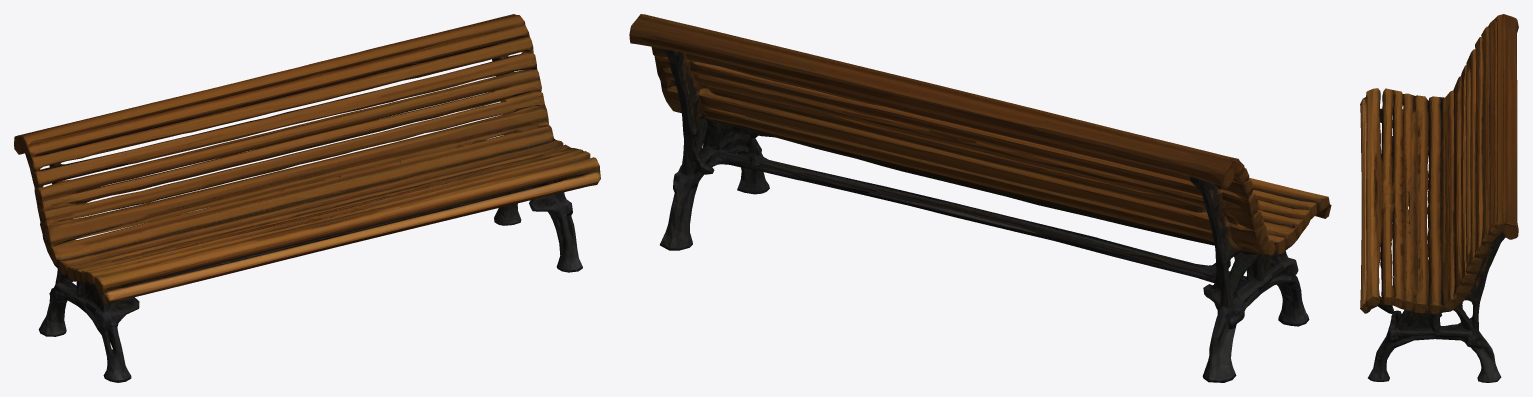
File: banc.glb
3 views of the same model, side by side, from view 1: azimuth 30°, elevation 25°; view 2: azimuth 150°, elevation 25°; view 3: azimuth 270°, elevation 25° (orthographic). The views are drawn at different scales.
Size of the model in its own units: 1 by 0.3742 by 0.3228.
1 material, 1 textured.
